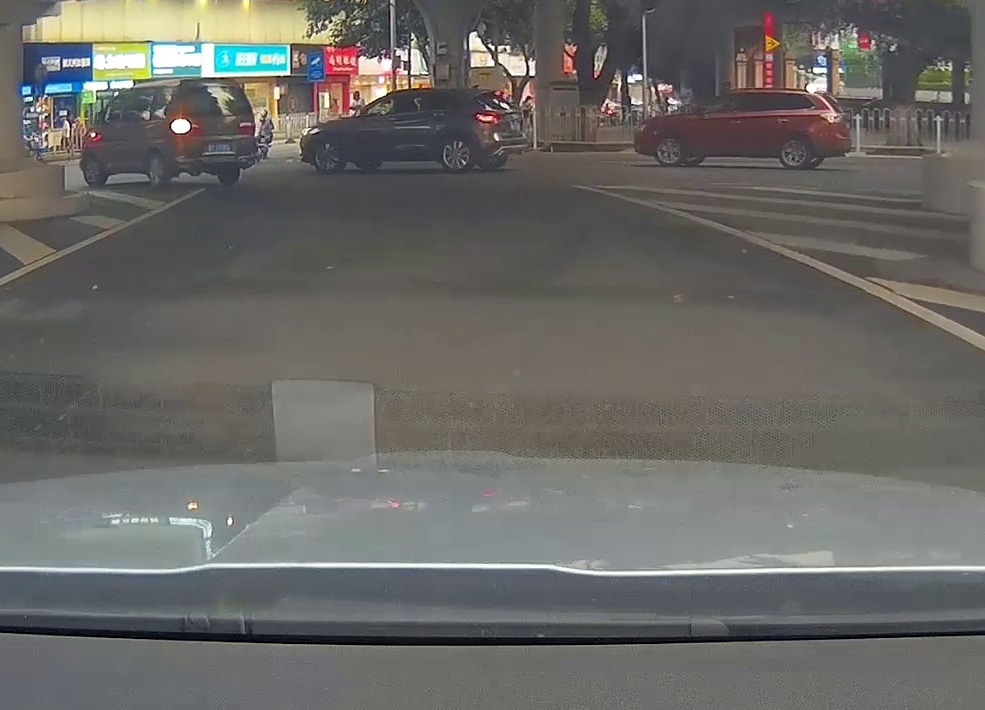L_light: (170, 119, 199, 131)
R_light: (234, 121, 254, 131)
T_light: (204, 83, 226, 86)
day-left: (157, 77, 255, 186)
